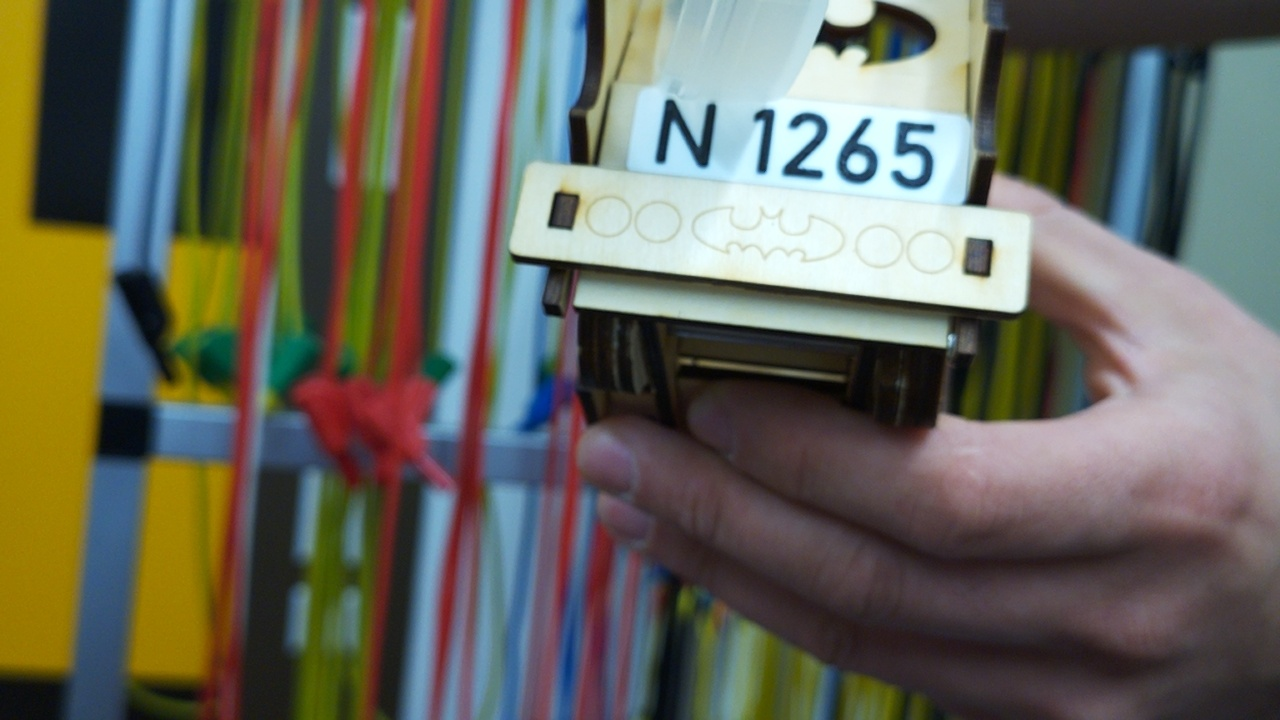license_plate: (618, 84, 977, 209)
